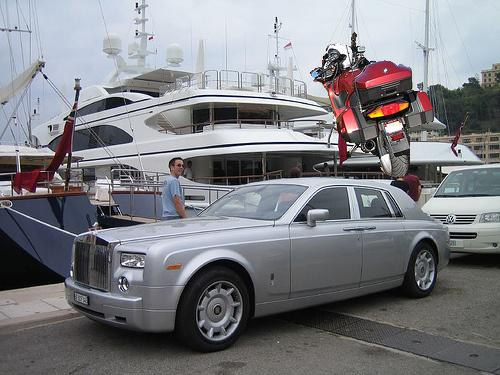tampered: (311, 33, 434, 177)
